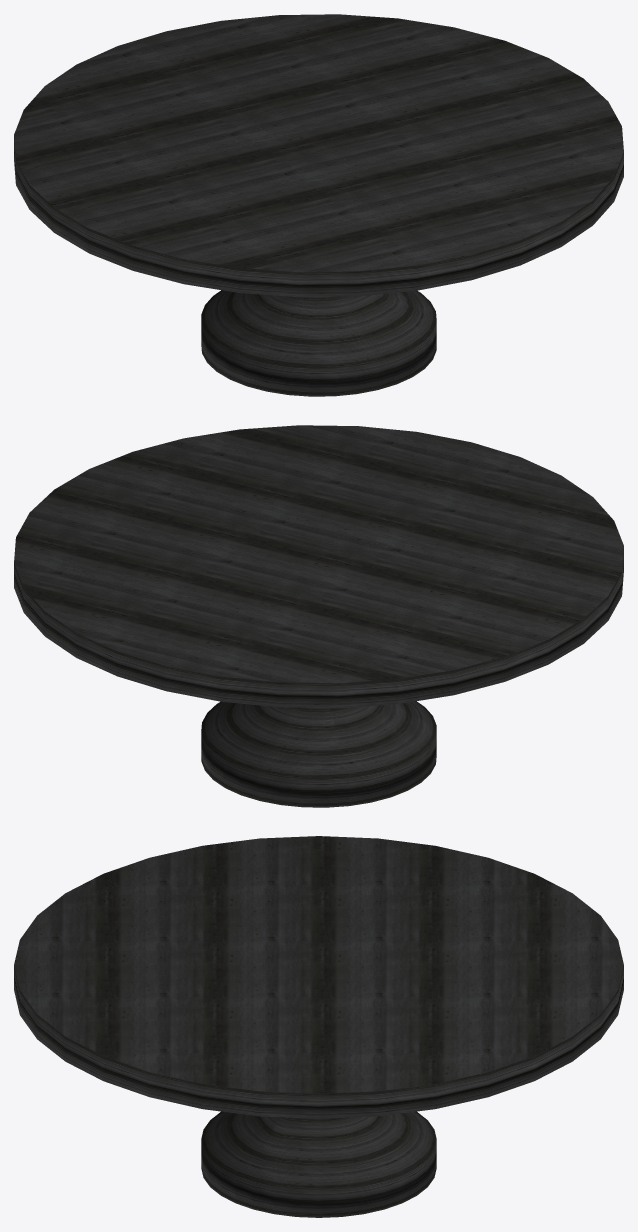
Rendered from table.gltf.
3 renders of one model, top to bottom at view 1: azimuth 30°, elevation 25°; view 2: azimuth 150°, elevation 25°; view 3: azimuth 270°, elevation 25°, orthographic.
Visible parts, largest first — view 1: Table; view 2: Table; view 3: Table.
Part boxes in pixels (box(x1,y1,x2,y2)): Table: box(14, 14, 623, 396); Table: box(14, 425, 623, 807); Table: box(14, 836, 623, 1217).
Size of the model in its own units: 5.18 by 1.91 by 5.18.
1 material, 1 textured.
